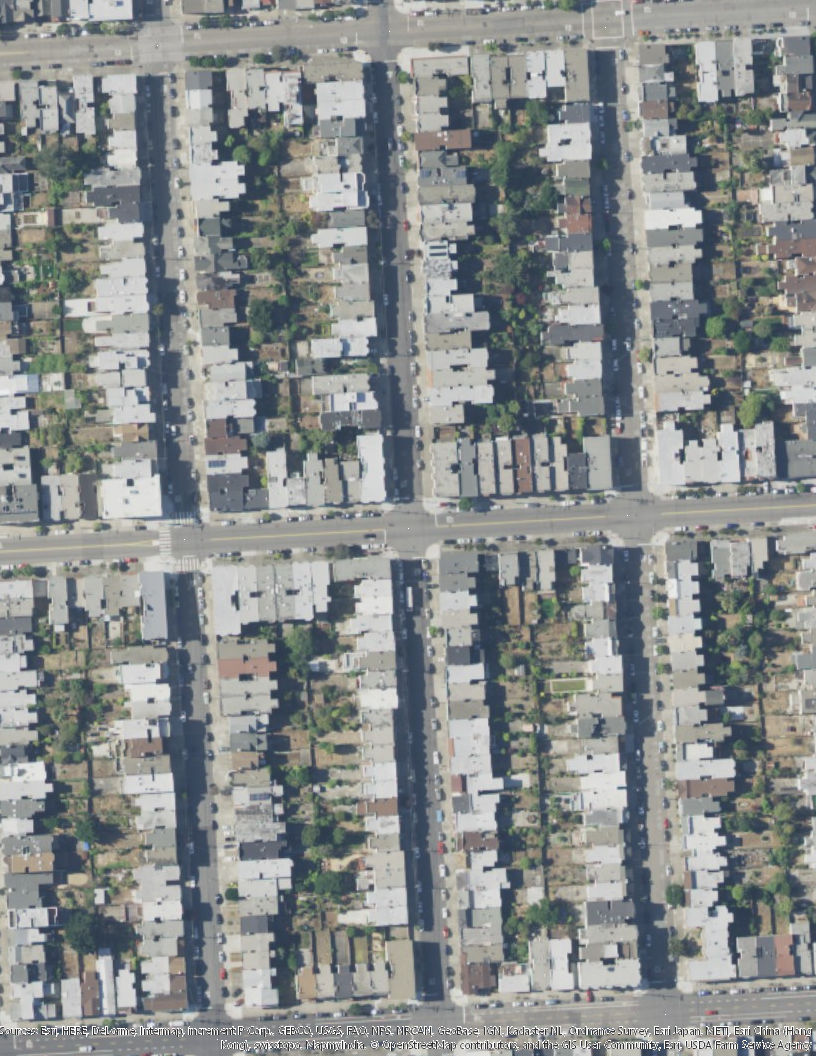zebracross: (158, 526, 172, 557), (174, 510, 200, 526), (177, 556, 203, 570)
